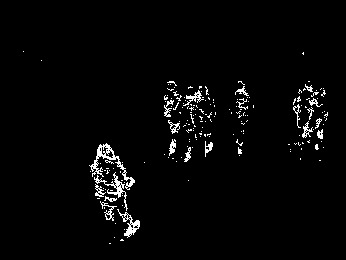person: (92, 138, 141, 241), (161, 80, 183, 162), (230, 80, 254, 155), (196, 83, 215, 157), (182, 85, 199, 163), (294, 78, 311, 153), (311, 86, 328, 154)
